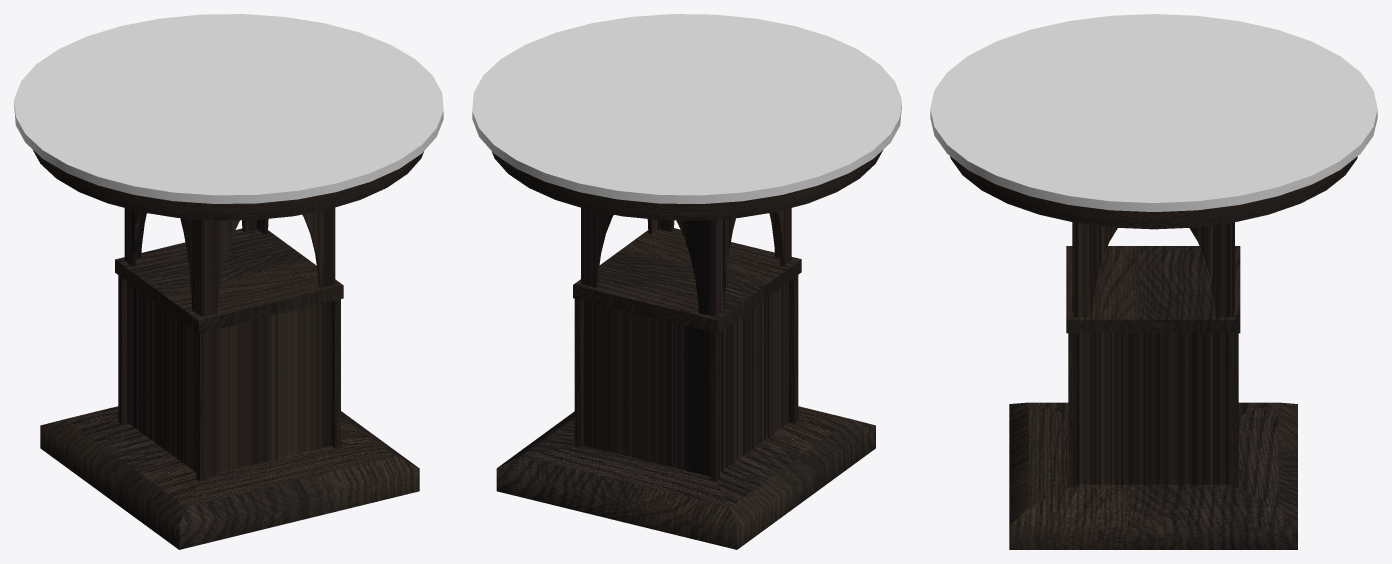
Rendered from meja ruang tengah.fbx.
3 renders of one model, left to right at view 1: azimuth 30°, elevation 25°; view 2: azimuth 150°, elevation 25°; view 3: azimuth 270°, elevation 25°, orthographic. The views are drawn at different scales.
Visible parts, largest first — view 1: Cylinder.001, Cube.019, Cube.025, Cube.021, Cylinder, Cube.020, Cube.022, Cube.024; view 2: Cylinder.001, Cube.019, Cube.025, Cube.021, Cylinder, Cube.024, Cube.023, Cube.020; view 3: Cylinder.001, Cube.019, Cube.025, Cylinder, Cube.021, Cube.023, Cube.022.
Part boxes in pixels (x1,y1,x2,y2): Cylinder.001: (14, 14, 443, 203); Cube.019: (40, 282, 419, 549); Cube.025: (115, 228, 343, 333); Cube.021: (124, 207, 335, 316); Cylinder: (33, 150, 423, 220); Cube.020: (196, 332, 206, 481); Cube.022: (331, 299, 340, 448); Cube.024: (118, 275, 127, 423); Cylinder.001: (472, 14, 901, 203); Cube.019: (496, 282, 875, 549); Cube.025: (573, 228, 801, 333); Cube.021: (581, 208, 791, 316); Cylinder: (492, 149, 883, 220); Cube.024: (710, 331, 719, 481); Cube.023: (574, 298, 583, 448); Cube.020: (789, 275, 798, 423); Cylinder.001: (930, 14, 1377, 211); Cube.019: (1009, 333, 1297, 549); Cube.025: (1066, 246, 1240, 333); Cylinder: (950, 156, 1357, 229); Cube.021: (1072, 222, 1234, 317); Cube.023: (1231, 333, 1238, 487); Cube.022: (1068, 333, 1075, 487).
Bounding box in the file's own units: 225 × 211 × 225.
2 materials, 1 textured.
